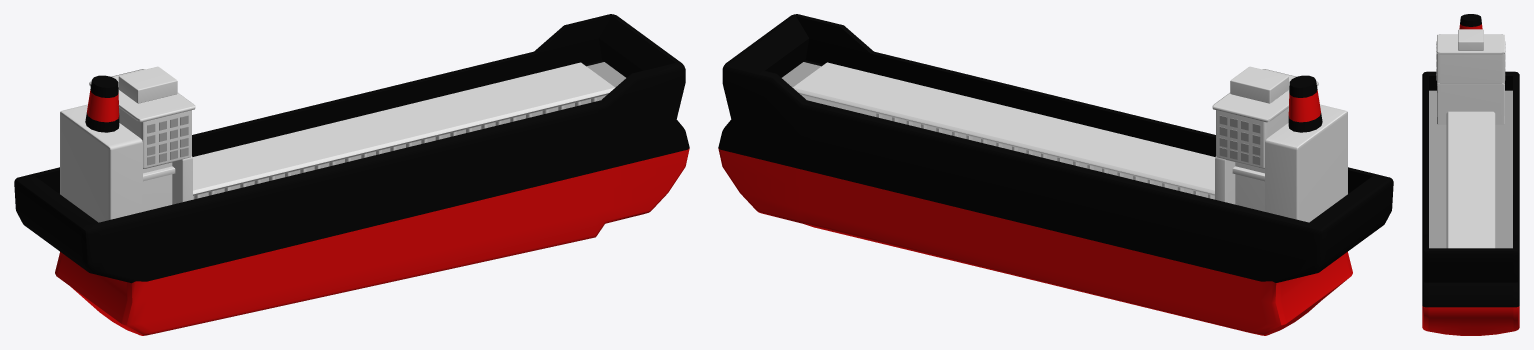
The model's file is Ship_5.fbx.
The picture shows the model from 3 angles, left to right: view 1: azimuth 30°, elevation 25°; view 2: azimuth 150°, elevation 25°; view 3: azimuth 270°, elevation 25°; orthographic projection. The views are drawn at different scales.
Visible parts, largest first — view 1: Ship_5; view 2: Ship_5; view 3: Ship_5.
Part boxes in pixels (box(x1,y1,x2,y2)): Ship_5: box(14, 14, 689, 335); Ship_5: box(718, 14, 1393, 335); Ship_5: box(1422, 14, 1519, 335).
Size of the model in its own units: 7.81 by 3.05 by 1.66.
